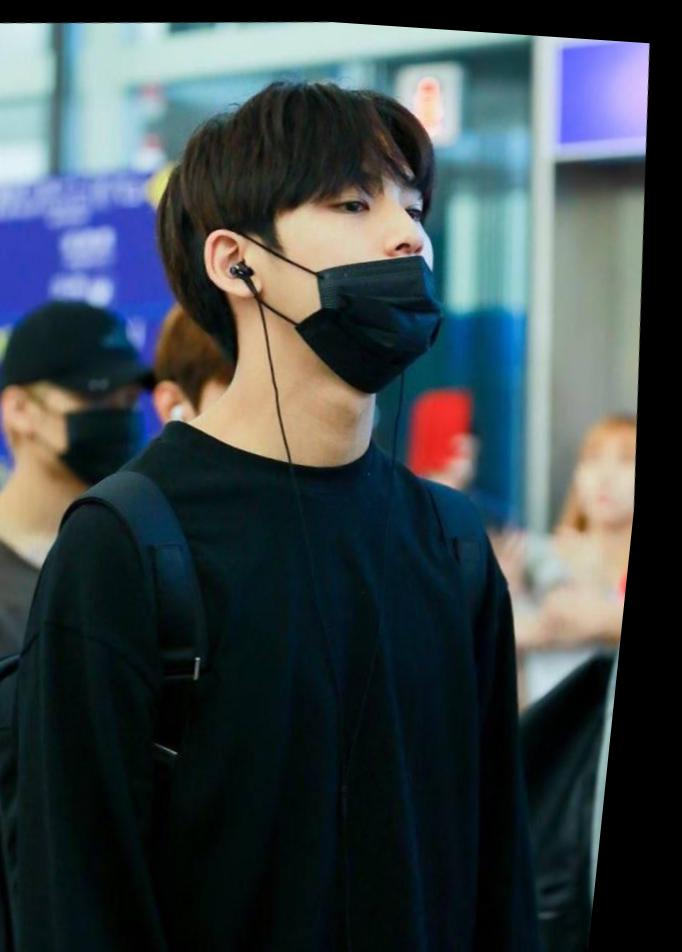NONE: (577, 429, 650, 522)
OK: (48, 359, 162, 490)
WRONG: (265, 128, 468, 385)
